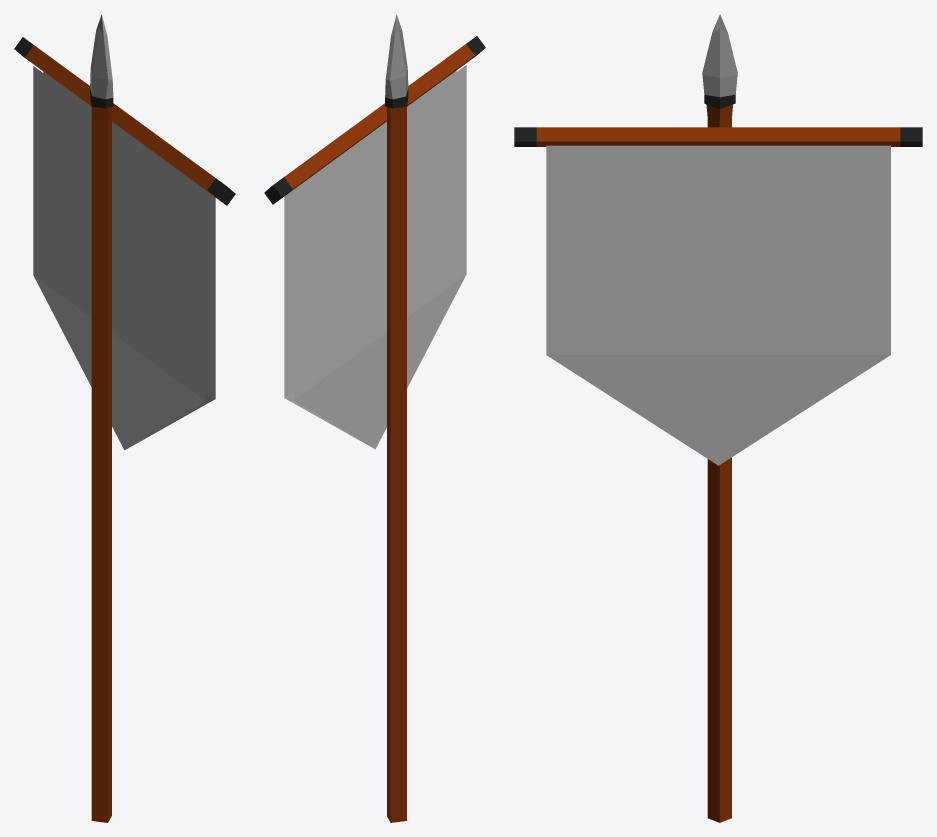
Rendered from banner.obj.
The picture shows the model from 3 angles, left to right: view 1: azimuth 30°, elevation 25°; view 2: azimuth 150°, elevation 25°; view 3: azimuth 270°, elevation 25°; orthographic projection.
Parts seen in each view (by area): view 1: banner; view 2: banner; view 3: banner.
Part boxes in pixels (x1,y1,x2,y2): banner: [14, 14, 235, 822]; banner: [264, 14, 485, 822]; banner: [514, 14, 922, 822].
Bounding box in the file's own units: 0.0567 × 1.05 × 0.4822.
